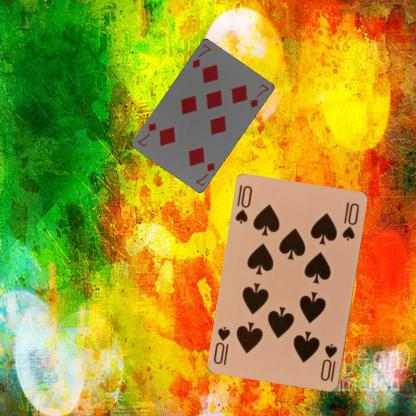10s: (233, 183, 254, 225), (318, 341, 338, 384)
7d: (193, 159, 217, 188), (190, 41, 212, 69)
